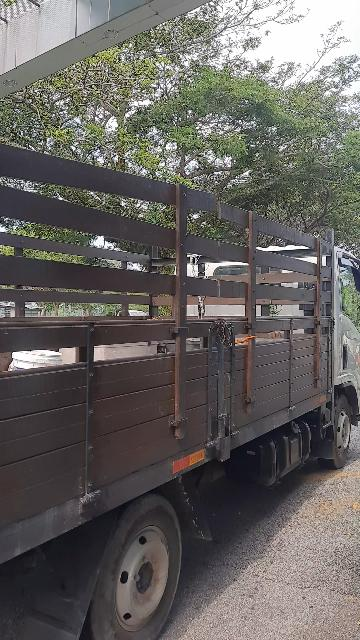lorry: (1, 108, 360, 640)
